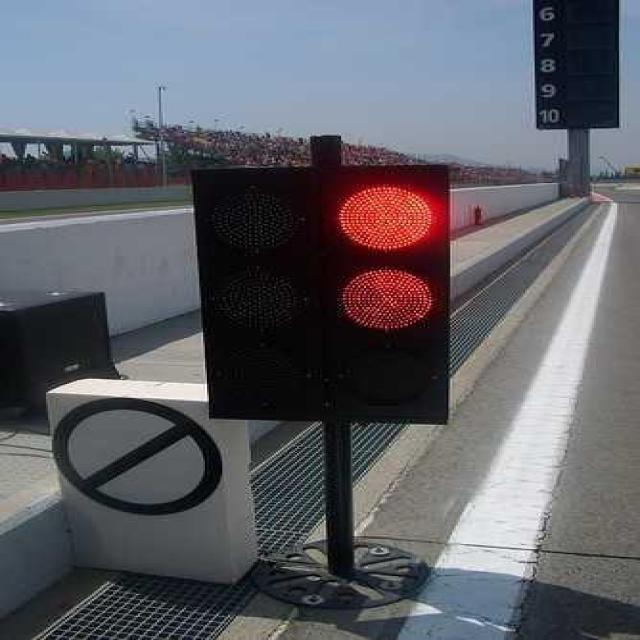Traffic Light -Red-: (324, 165, 454, 426)
